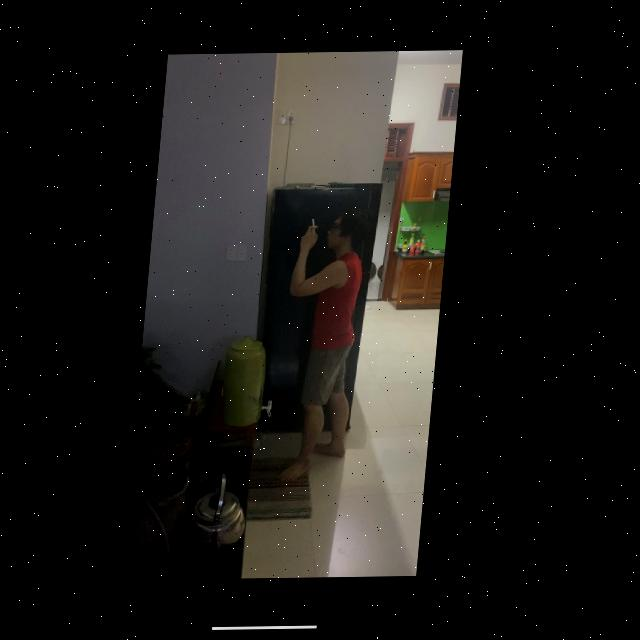cigarette: (315, 220, 319, 227)
